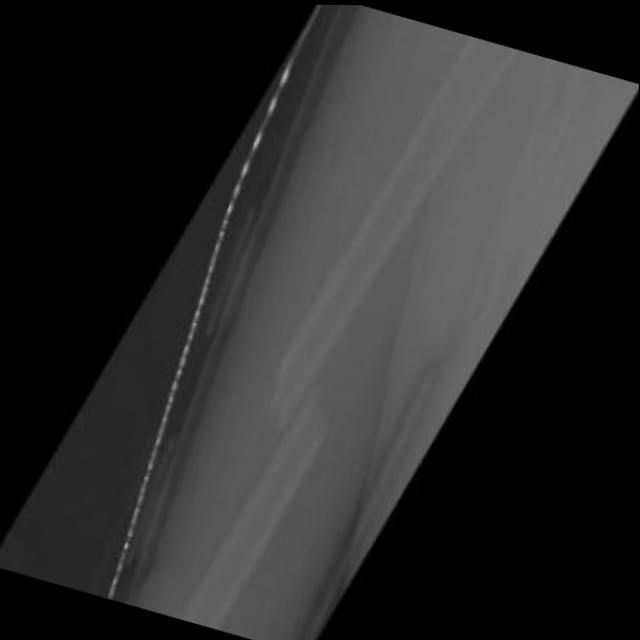fracture: (231, 338, 356, 480)
